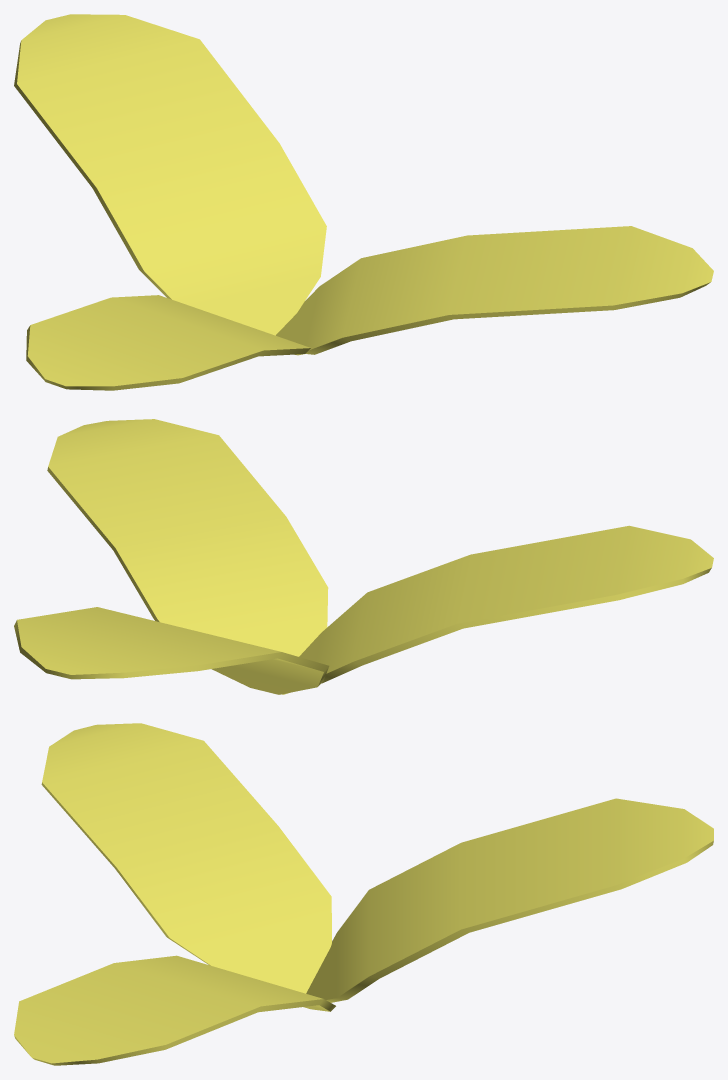
File: DeadGrass5.fbx
The picture shows the model from 3 angles, top to bottom: view 1: azimuth 30°, elevation 25°; view 2: azimuth 150°, elevation 25°; view 3: azimuth 270°, elevation 25°; orthographic projection. The views are drawn at different scales.
Visible parts, largest first — view 1: Grass.008; view 2: Grass.008; view 3: Grass.008.
Part boxes in pixels (x1,y1,x2,y2): Grass.008: (14, 14, 713, 390); Grass.008: (14, 419, 713, 694); Grass.008: (14, 723, 713, 1065).
Size of the model in its own units: 177 by 44.82 by 170.
